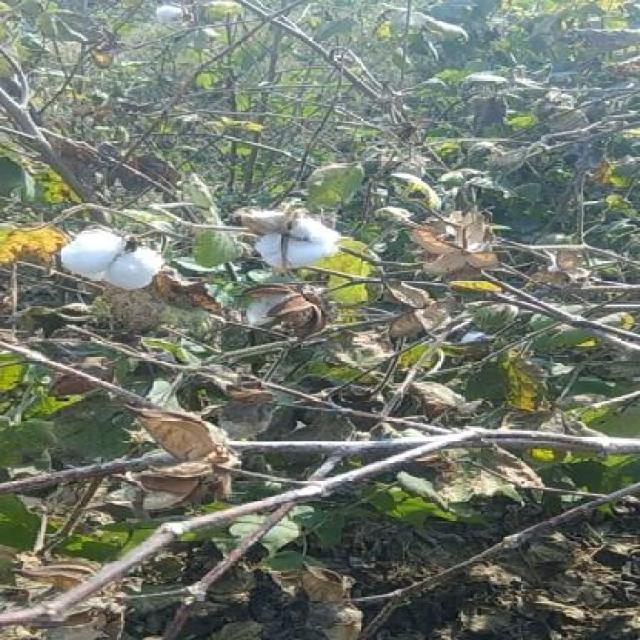cotton_ready: (49, 220, 169, 317), (240, 202, 354, 284)
